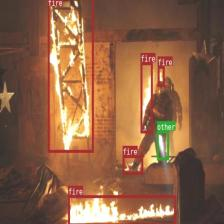fire: (48, 0, 94, 152), (67, 194, 175, 224), (140, 62, 152, 132), (122, 155, 143, 174), (158, 66, 164, 86)
